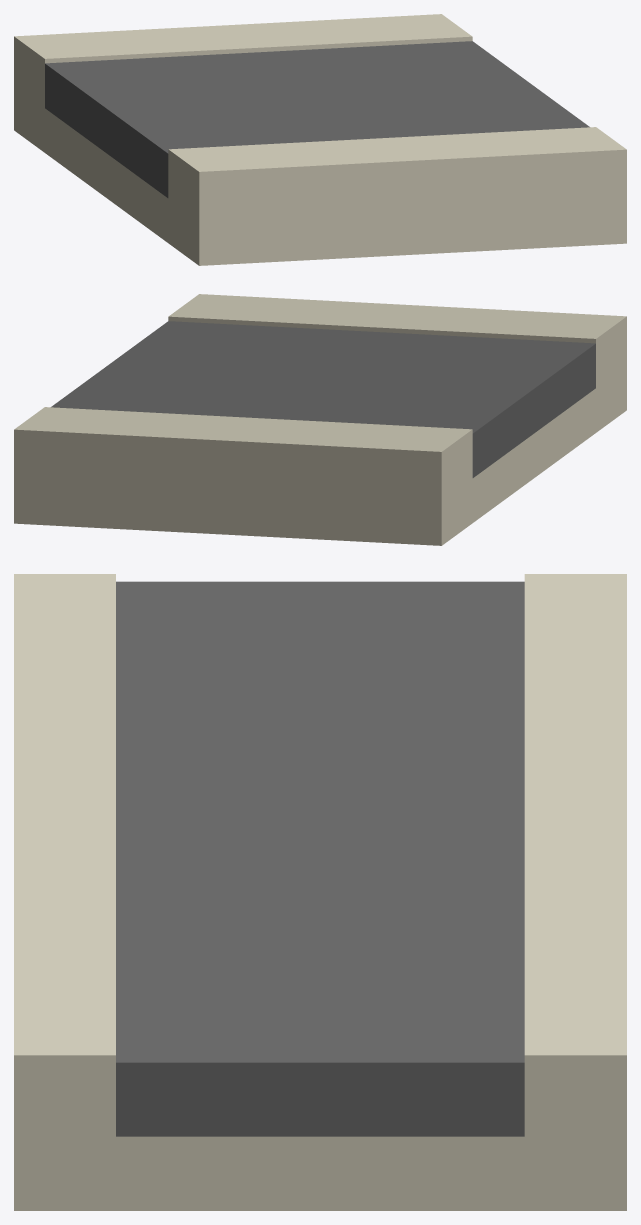
Rendered from roadTile_229.obj.
3 views of the same model, one above another, from view 1: azimuth 30°, elevation 25°; view 2: azimuth 150°, elevation 25°; view 3: azimuth 270°, elevation 25° (orthographic). The views are drawn at different scales.
Visible parts, largest first — view 1: roadTile_229; view 2: roadTile_229; view 3: roadTile_229.
Boxes of the visible parts, <box> form: roadTile_229: <box>14,14,626,265</box>; roadTile_229: <box>14,294,626,545</box>; roadTile_229: <box>14,574,626,1210</box>.
Bounding box in the file's own units: 3 × 1.18 × 2.25.
